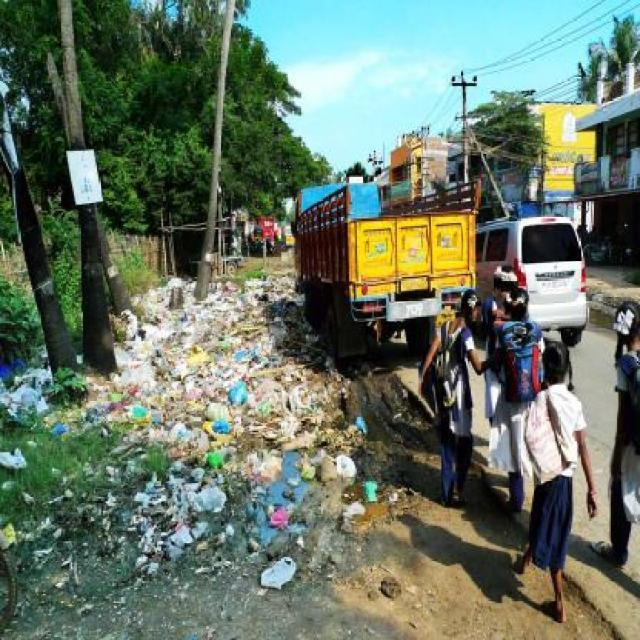garbage: (133, 297, 306, 551), (59, 359, 362, 442)
